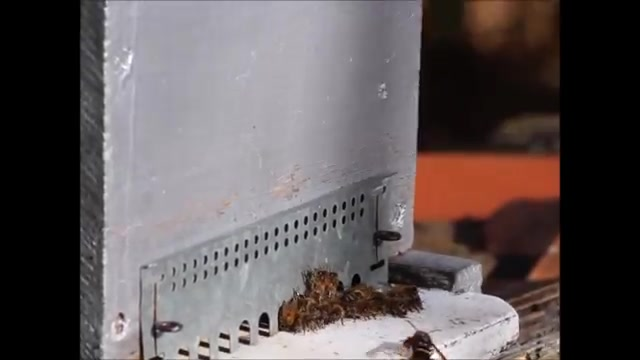bee: (353, 285, 425, 319), (300, 294, 348, 323), (316, 271, 340, 292), (279, 301, 296, 330)
hornet: (405, 329, 449, 360)
